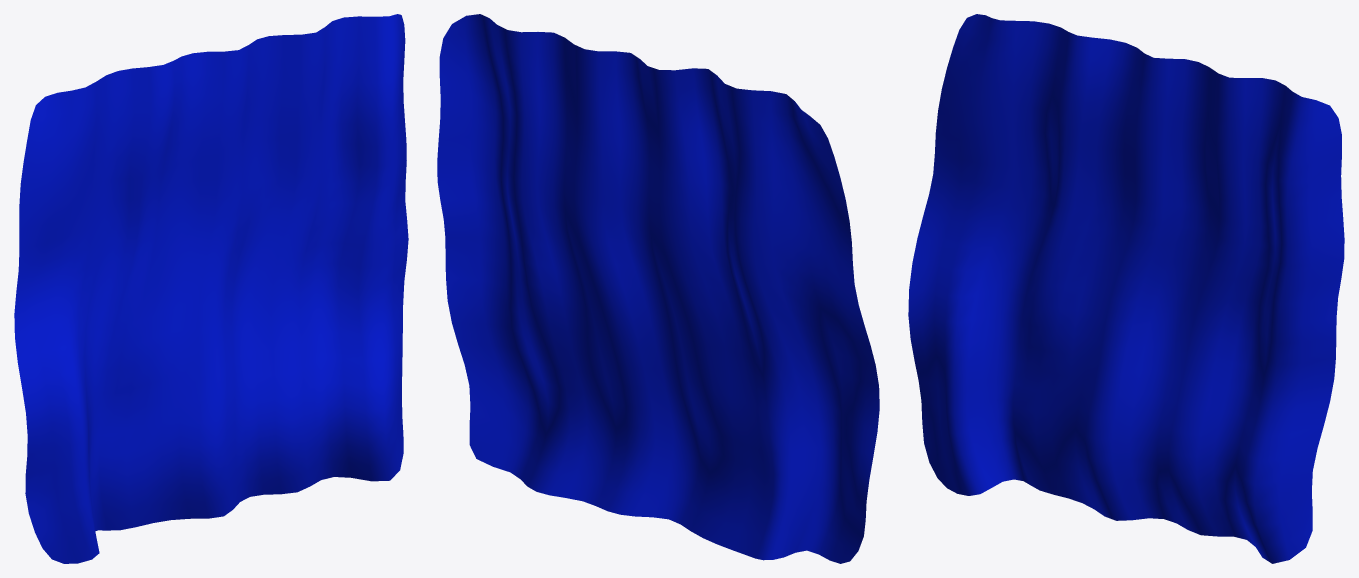
The model's file is Curtain.fbx.
3 views of the same model, side by side, from view 1: azimuth 30°, elevation 25°; view 2: azimuth 150°, elevation 25°; view 3: azimuth 330°, elevation 25° (orthographic). The views are drawn at different scales.
Parts seen in each view (by area): view 1: Curtain; view 2: Curtain; view 3: Curtain.
Part boxes in pixels (x1,y1,x2,y2): Curtain: (14, 14, 408, 563); Curtain: (437, 14, 879, 563); Curtain: (908, 14, 1344, 563).
Size of the model in its own units: 1.83 by 1.99 by 0.2653.
